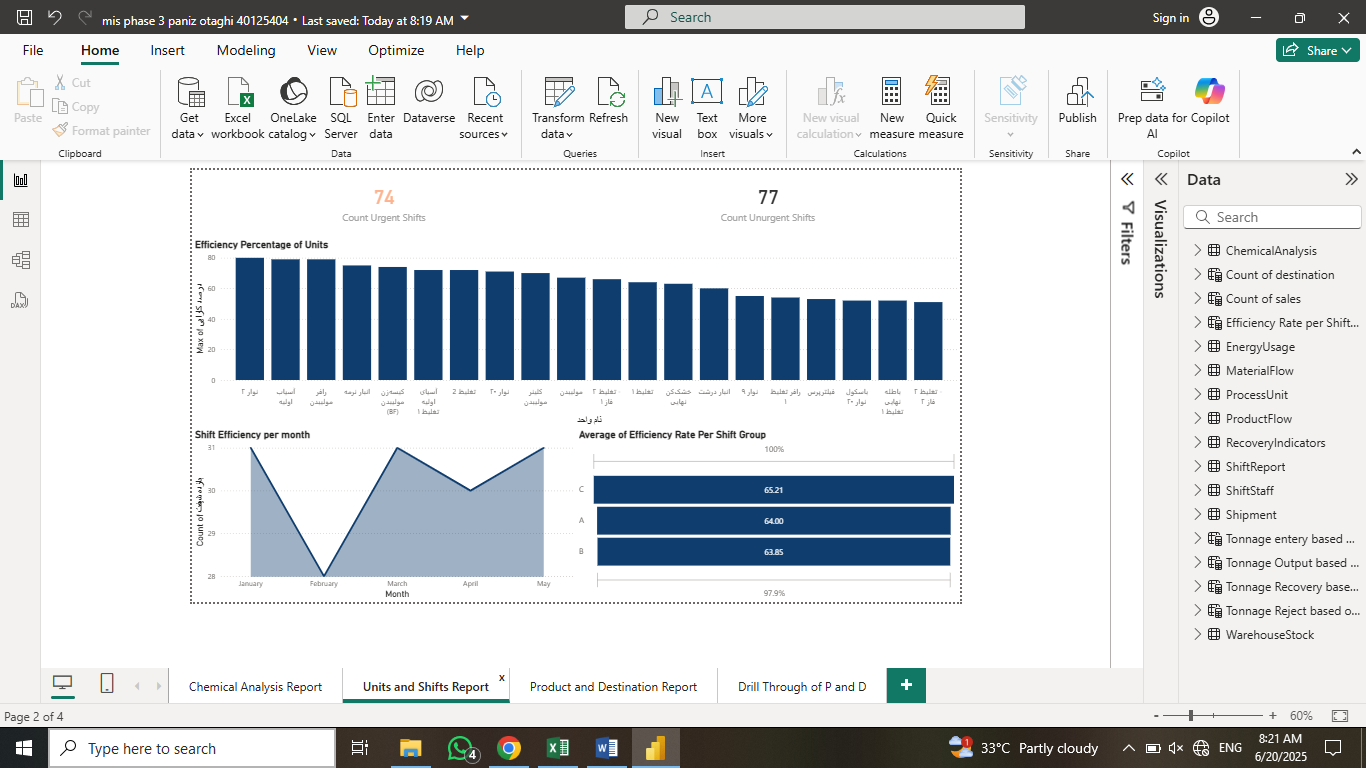

Layout of this report page (visuals, bound fields, positions):
{"tool":"powerbi","page":{"name":"Units and Shifts Report","canvas":[1280,720],"ordinal":1},"visuals":[{"type":"areaChart","title":"Shift Efficiency per month","fields":{"Category":["ShiftReport.تاریخ گزارش.Variation.Date Hierarchy.Month","ShiftReport.تاریخ گزارش.Variation.Date Hierarchy.Day"],"Y":["CountNonNull(ShiftReport.بازده شیفت)"]},"box":[0,430,640,290],"z":0},{"type":"advanceCardE03760C5AB684758B56AA29F9E6C257B","fields":{"mainMeasure":["ShiftReport.Count Urgent Shifts"]},"box":[0,0,640,113.3],"z":1000},{"type":"advanceCardE03760C5AB684758B56AA29F9E6C257B","fields":{"mainMeasure":["ShiftReport.Count Unurgent Shifts"]},"box":[640,0,640,113.3],"z":2000},{"type":"funnel","title":"Average of Efficiency Rate Per Shift Group","fields":{"Category":["Count of shift.کد شیفت"],"Y":["Avg(Efficiency Rate per Shift type.Efficiency Rate)"]},"box":[640,430,640,290],"z":3000},{"type":"clusteredColumnChart","title":"Efficiency Percentage of Units","fields":{"Category":["ProcessUnit.نام واحد"],"Y":["Max(ProcessUnit.درصد کارایی)"]},"box":[0,113.3,1280,316.7],"z":4000}]}

Visuals, with their boxes on the page's 1280x720 design canvas (x1, y1, x2, y2). These are canvas units, not pixel positions in the 1366x768 screenshot, which may show the page scaled, cropped or inside an application window:
"Shift Efficiency per month" areaChart: locate(0, 430, 640, 720)
advanceCardE03760C5AB684758B56AA29F9E6C257B - ShiftReport.Count Urgent Shifts: locate(0, 0, 640, 113)
advanceCardE03760C5AB684758B56AA29F9E6C257B - ShiftReport.Count Unurgent Shifts: locate(640, 0, 1280, 113)
"Average of Efficiency Rate Per Shift Group" funnel: locate(640, 430, 1280, 720)
"Efficiency Percentage of Units" clusteredColumnChart: locate(0, 113, 1280, 430)
